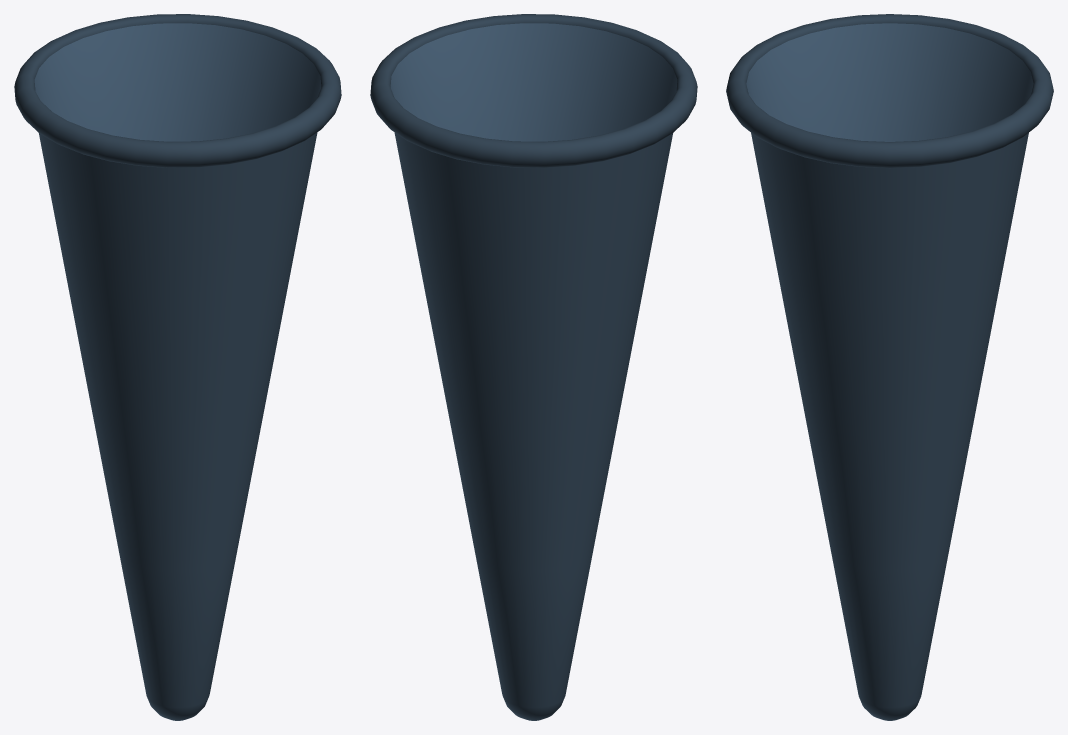
The model's file is Cone Ice Cream E.fbx.
3 views of the same model, side by side, from view 1: azimuth 30°, elevation 25°; view 2: azimuth 150°, elevation 25°; view 3: azimuth 270°, elevation 25° (orthographic).
Parts seen in each view (by area): view 1: Cone Ice Cream E; view 2: Cone Ice Cream E; view 3: Cone Ice Cream E.
Part boxes in pixels (left/top/right/bottom): Cone Ice Cream E: left=14, top=14, right=341, bottom=720; Cone Ice Cream E: left=370, top=14, right=697, bottom=720; Cone Ice Cream E: left=726, top=14, right=1053, bottom=720.
Size of the model in its own units: 0.395 by 0.8493 by 0.395.
